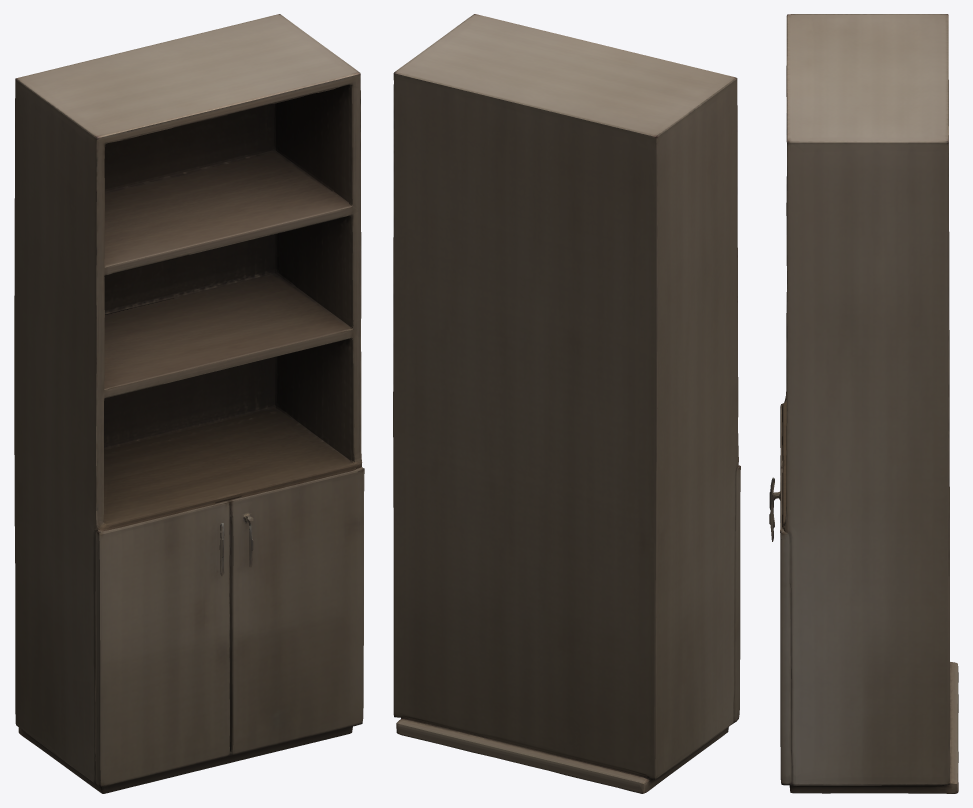
The model's file is Cabnit.glb.
3 renders of one model, left to right at view 1: azimuth 30°, elevation 25°; view 2: azimuth 150°, elevation 25°; view 3: azimuth 270°, elevation 25°, orthographic.
Visible parts, largest first — view 1: world; view 2: world; view 3: world.
Part boxes in pixels (bbox=[...]): world: bbox=[14, 14, 364, 793]; world: bbox=[393, 14, 740, 793]; world: bbox=[769, 14, 958, 793].
Size of the model in its own units: 0.4215 by 1 by 0.2616.
Materials: 1 (1 with a texture image).
